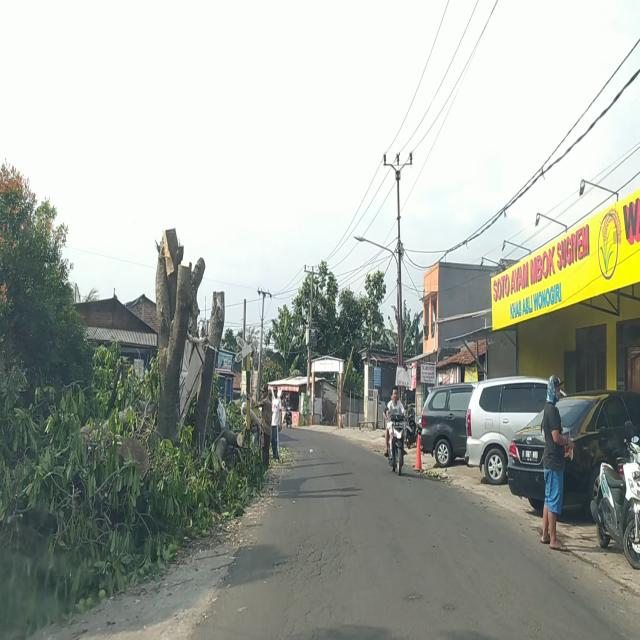Drain Hole: (280, 529, 345, 587)
